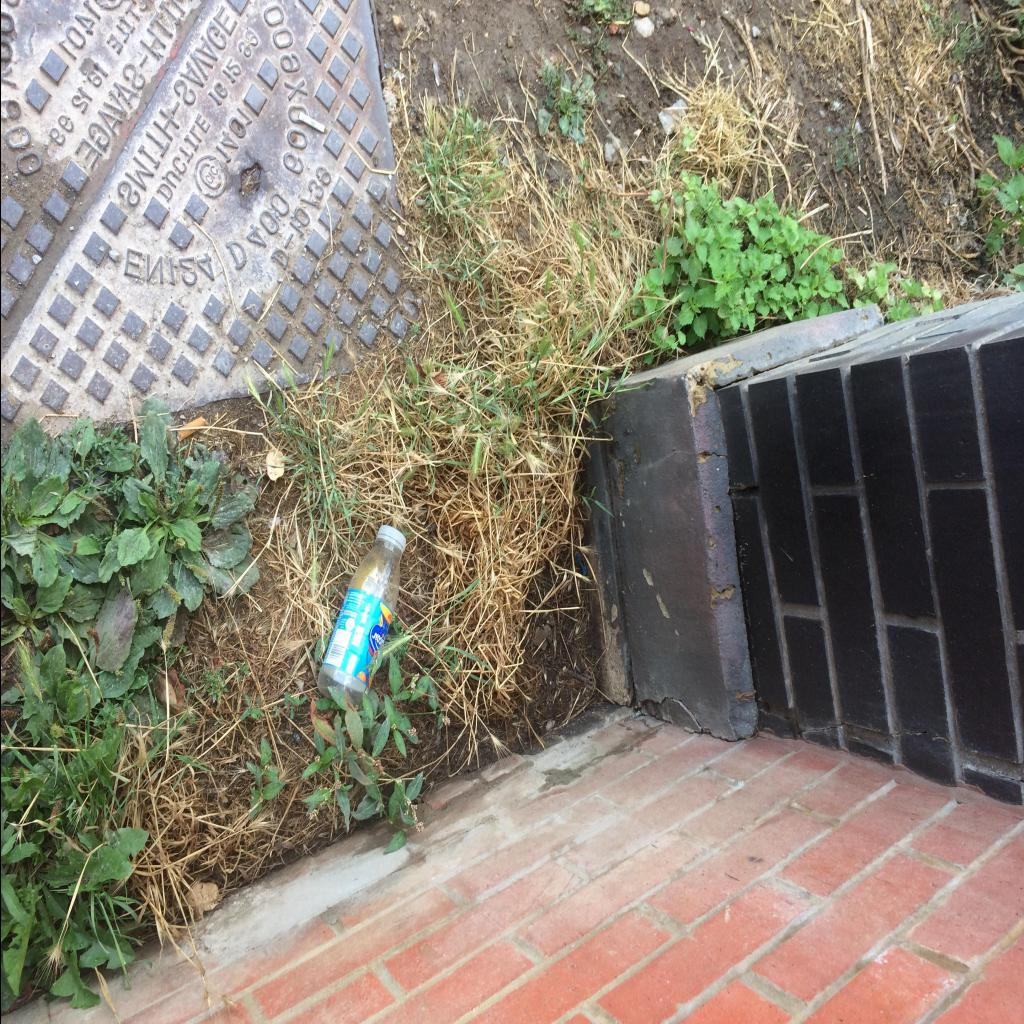Cigarette: (175, 416, 205, 444)
Clear plastic bottle: (316, 525, 406, 711)
Plastic bottle cap: (377, 526, 405, 550)
